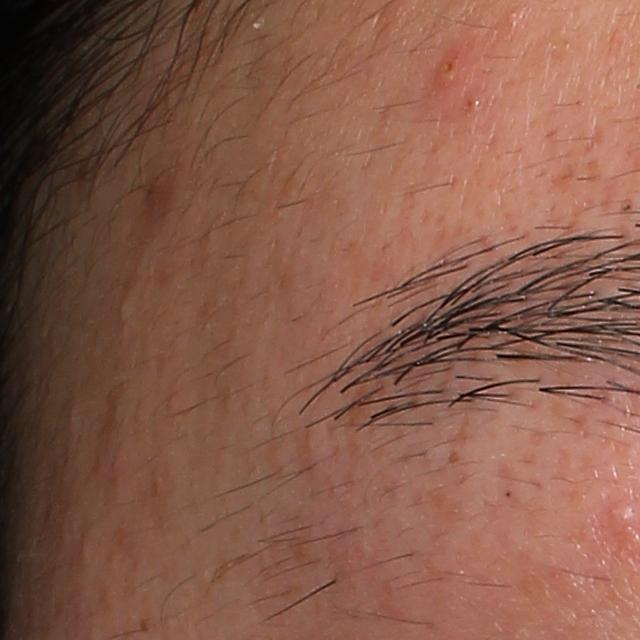comedo: (116, 290, 139, 322)
papule: (433, 46, 468, 90)
